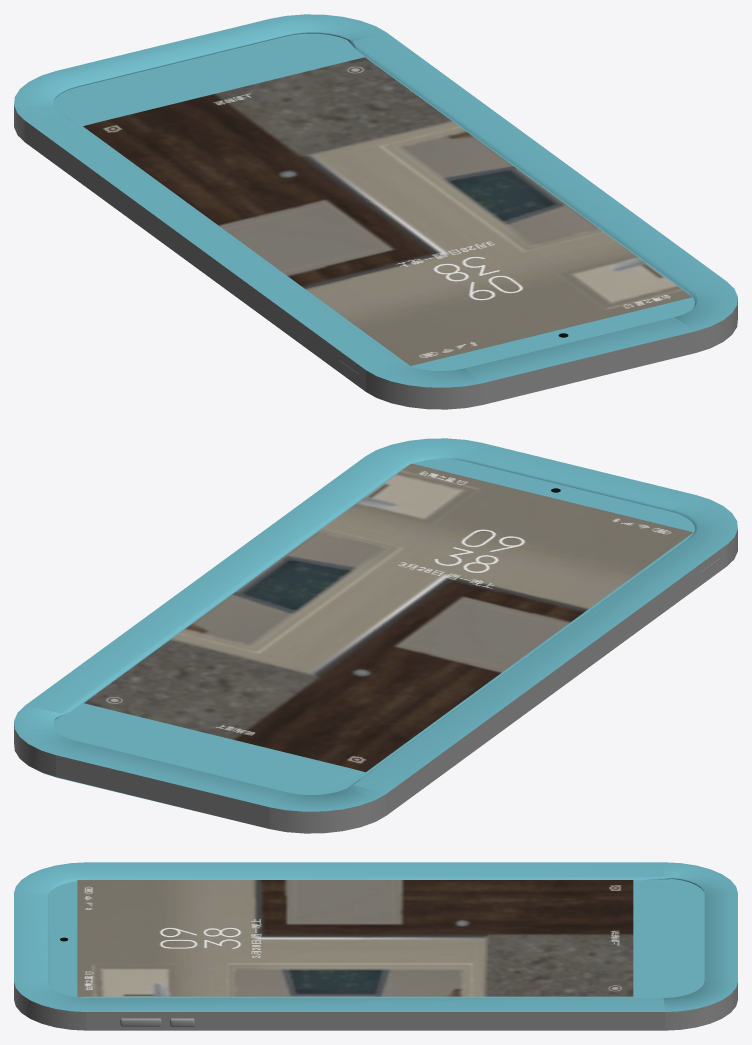
The model's file is 手機解鎖.fbx.
3 views of the same model, one above another, from view 1: azimuth 30°, elevation 25°; view 2: azimuth 150°, elevation 25°; view 3: azimuth 270°, elevation 25° (orthographic). The views are drawn at different scales.
Visible parts, largest first — view 1: g; view 2: g; view 3: g, ChamferBox001.
Boxes of the visible parts, bbox=[...] form: g: bbox=[14, 14, 737, 409]; g: bbox=[14, 438, 737, 833]; g: bbox=[14, 862, 737, 1030]; ChamferBox001: bbox=[120, 1018, 161, 1026].
Size of the model in its own units: 8.7 by 0.6632 by 17.63.
8 materials, 1 textured.
